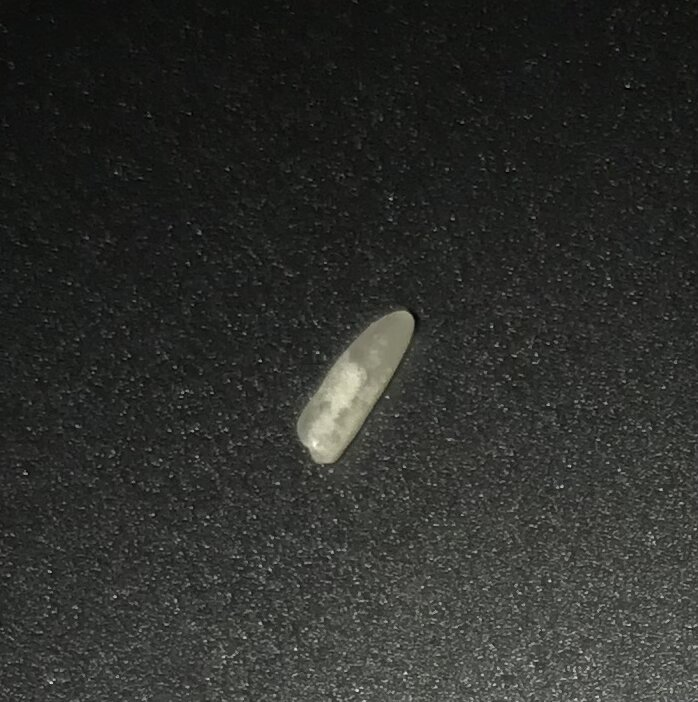Gao Long Lai: (289, 293, 424, 472)
